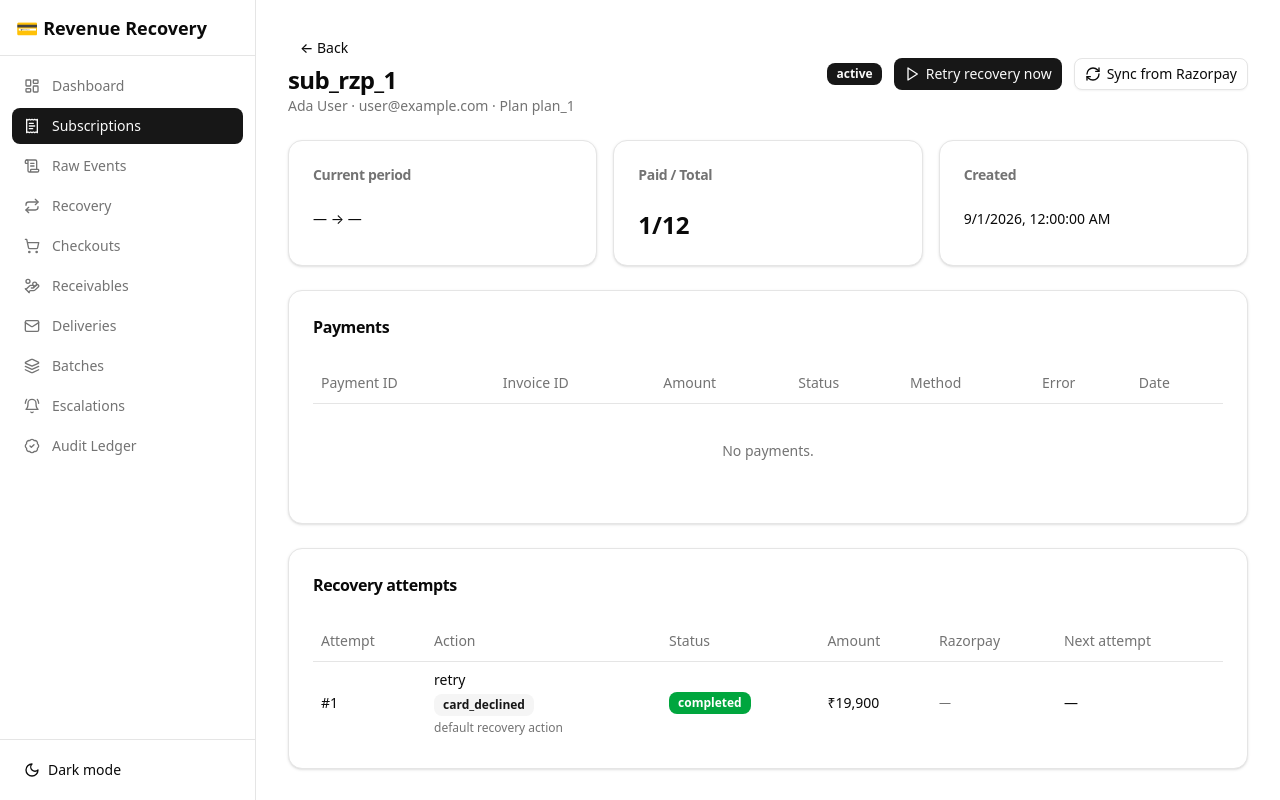
dashboard pages render › recover button surfaces the cap refusal message
This screenshot has width=1280, height=800.
Click the button "Retry recovery now" at (978, 74), box x1=894 y1=58 x2=1062 y2=90
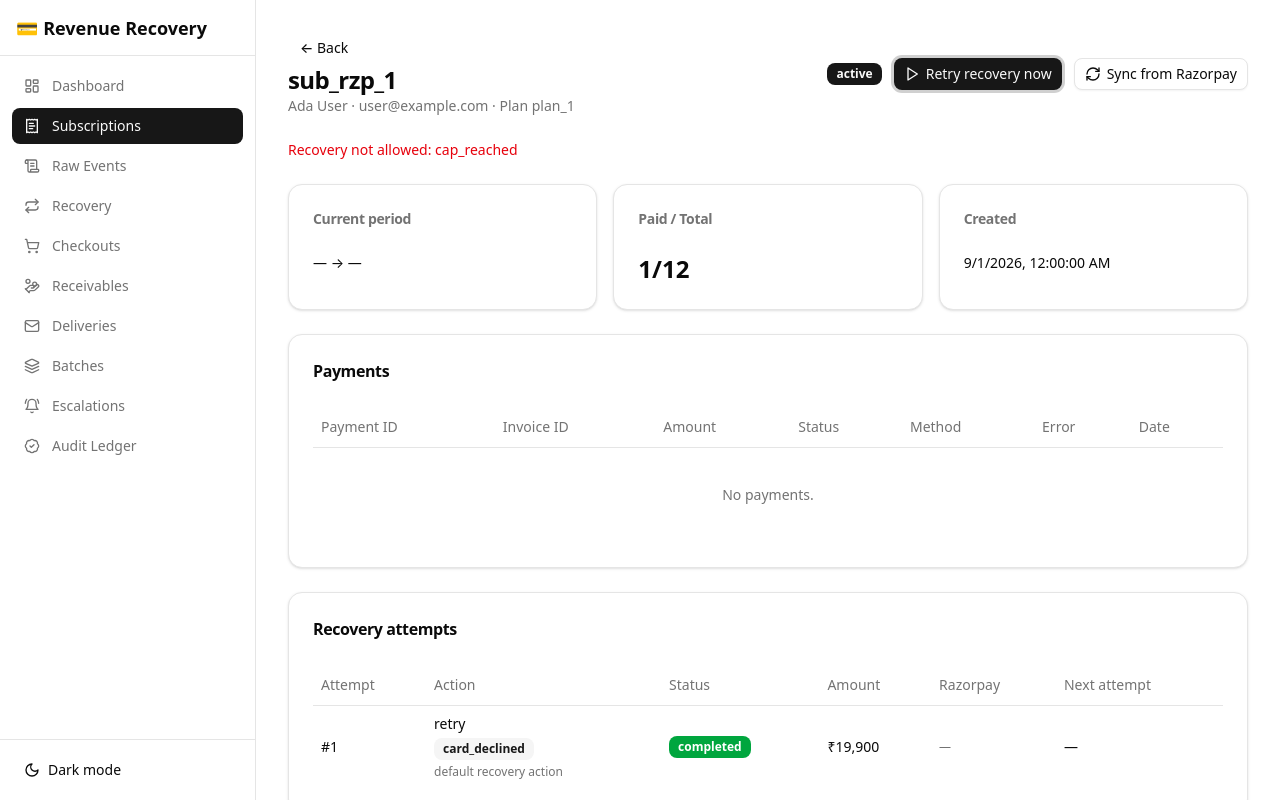
Now the text "Recovery not allowed: cap_reached" is shown, box x1=288 y1=140 x2=518 y2=159
